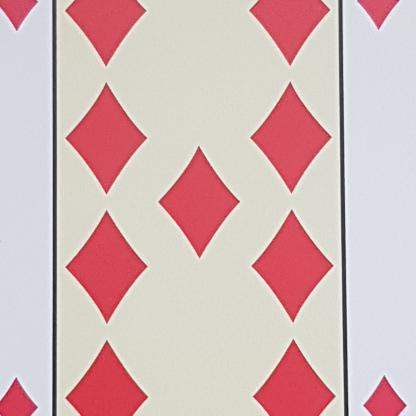9d: (342, 356, 415, 415), (338, 0, 413, 49), (0, 0, 51, 49)
